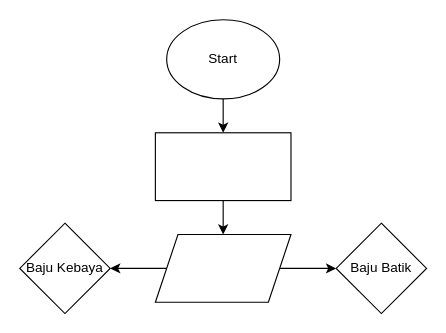
This 446x333 diagram has some shape labels left out. The shapes that lost their labels are listed below. From the top down, each one's centre as x and y in pixels, then its label:
At point 222,166: "Pilih Jenis Baju".
At point 222,267: "Jenis Baju".
